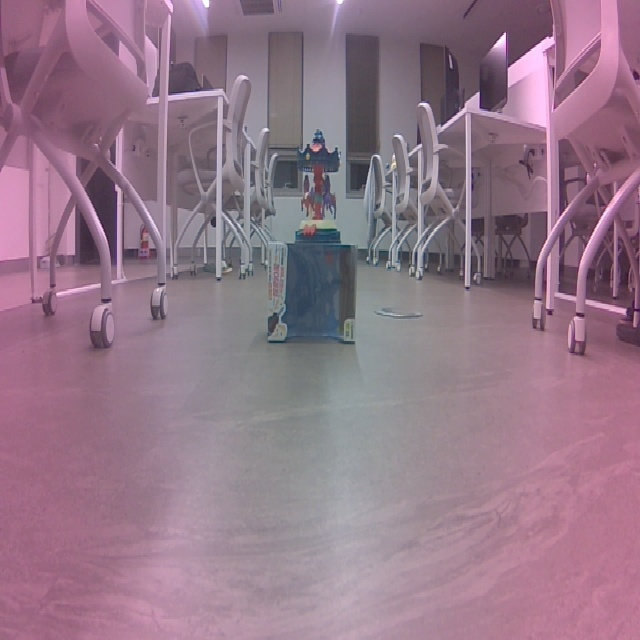목적지: (290, 125, 343, 245)
